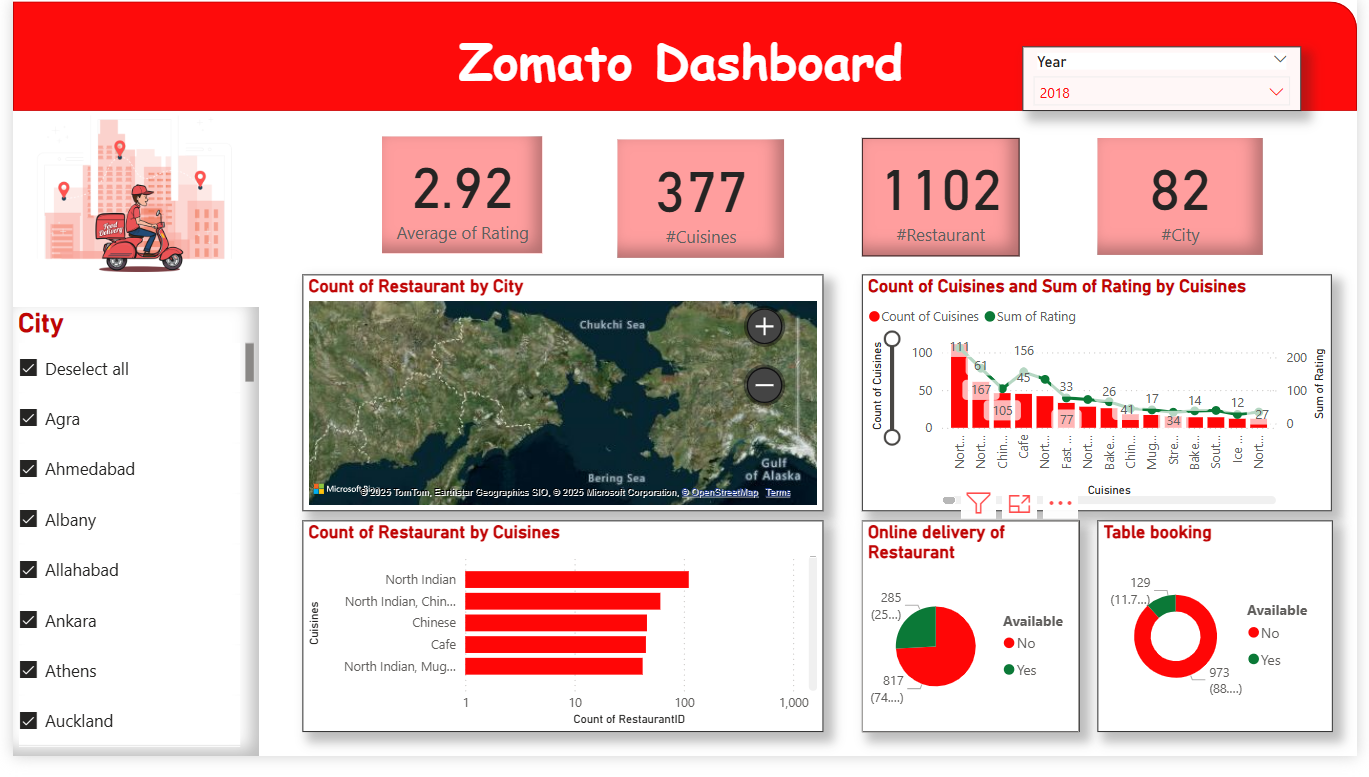

The dashboard page shown, as its layout file describes it:
{"tool":"powerbi","page":{"name":"Page 1","canvas":[1280,720],"ordinal":0},"visuals":[{"type":"shape","box":[0,1.4,1280,104.3],"z":0},{"type":"image","box":[0,90,233.8,191.2],"z":1000},{"type":"card","fields":{"Values":["Avg(Sheet1.Rating)"]},"box":[351.4,130,152.9,111.4],"z":2000},{"type":"card","fields":{"Values":["Count(Sheet1.Cuisines)"]},"box":[575.7,132.9,158.6,112.9],"z":3000},{"type":"card","fields":{"Values":["CountNonNull(Sheet1.RestaurantID)"]},"box":[808.6,131.4,150,112.9],"z":4000},{"type":"card","fields":{"Values":["Count(Sheet1.City)"]},"box":[1032.9,131.4,157.1,111.4],"z":5000},{"type":"listSlicer","fields":{"Values":["Sheet1.City"]},"box":[0,292.9,234.3,428],"z":6000},{"type":"lineStackedColumnComboChart","fields":{"Category":["Sheet1.Cuisines"],"Y":["CountNonNull(Sheet1.Cuisines)"],"Y2":["Sum(Sheet1.Rating)"]},"box":[808.8,261.2,447.5,225],"z":7000},{"type":"map","title":"Count of Restaurant by City","fields":{"Category":["Sheet1.City"],"Size":["CountNonNull(Sheet1.RestaurantID)"]},"box":[275,261.2,496.2,225],"z":8000},{"type":"clusteredBarChart","title":"Count of Restaurant by Cuisines","fields":{"Category":["Sheet1.Cuisines"],"Y":["CountNonNull(Sheet1.RestaurantID)"]},"box":[276.2,496.2,496.2,201.2],"z":9000},{"type":"pieChart","title":"Online delivery of Restaurant ","fields":{"Category":["Sheet1.Has_Online_delivery"],"Y":["CountNonNull(Sheet1.RestaurantID)"]},"box":[808.8,496.2,207.5,201.2],"z":10000},{"type":"donutChart","title":"Table booking","fields":{"Category":["Sheet1.Has_Table_booking"],"Y":["CountNonNull(Sheet1.RestaurantID)"]},"box":[1032.5,496.2,223.8,201.2],"z":11000},{"type":"slicer","fields":{"Values":["Sheet1.Datekey_Opening.Variation.Date Hierarchy.Year"]},"box":[962,44.4,265,61],"z":12000}]}

Visuals, with their boxes in screenshot pixels (x1, y1, x2, y2), scaled from the page's 1280x720 canvas onto the 1369x777 screenshot:
shape: box(0, 2, 1368, 114)
image: box(0, 97, 250, 303)
card - Avg(Sheet1.Rating): box(376, 140, 539, 261)
card - Count(Sheet1.Cuisines): box(616, 143, 785, 265)
card - CountNonNull(Sheet1.RestaurantID): box(865, 142, 1025, 264)
card - Count(Sheet1.City): box(1105, 142, 1273, 262)
listSlicer - Sheet1.City: box(0, 316, 251, 776)
lineStackedColumnComboChart - Sheet1.Cuisines x CountNonNull(Sheet1.Cuisines): box(865, 282, 1344, 525)
"Count of Restaurant by City" map: box(294, 282, 825, 525)
"Count of Restaurant by Cuisines" clusteredBarChart: box(295, 535, 826, 753)
"Online delivery of Restaurant " pieChart: box(865, 535, 1087, 753)
"Table booking" donutChart: box(1104, 535, 1344, 753)
slicer - Sheet1.Datekey_Opening.Variation.Date Hierarchy.Year: box(1029, 48, 1312, 114)
